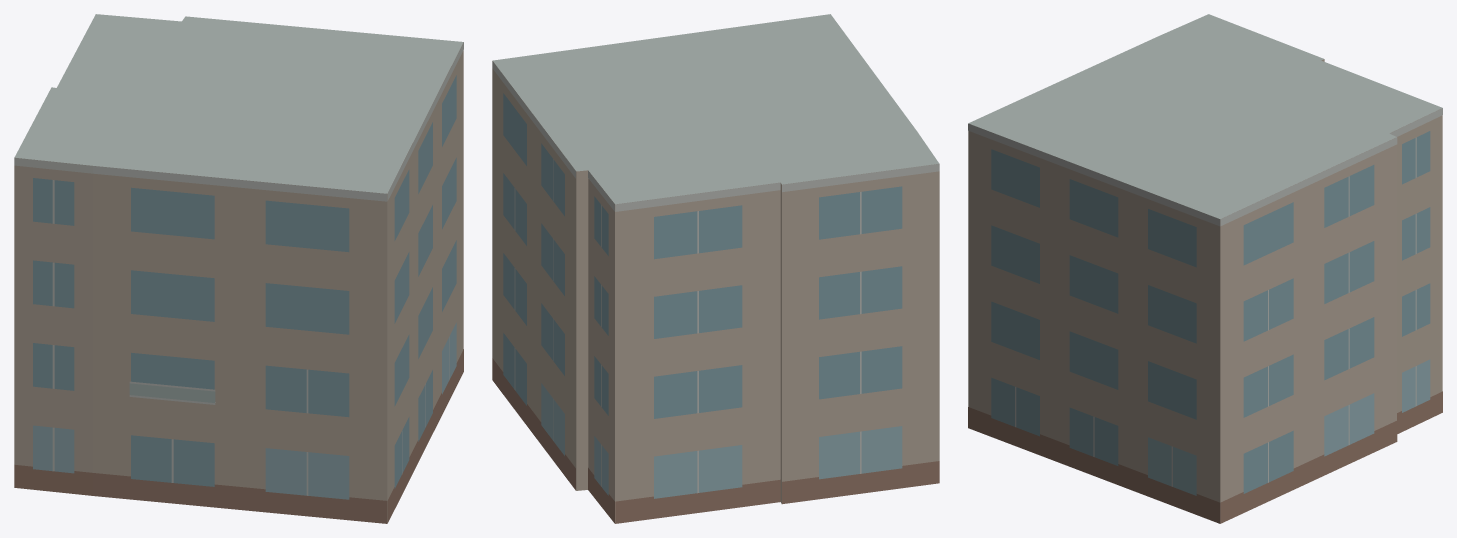
File: survey-upis-32826066.glb
3 views of the same model, side by side, from view 1: azimuth 30°, elevation 25°; view 2: azimuth 150°, elevation 25°; view 3: azimuth 270°, elevation 25° (orthographic). The views are drawn at different scales.
Visible parts, largest first — view 1: survey-upis-32826066.tmp; view 2: survey-upis-32826066.tmp; view 3: survey-upis-32826066.tmp.
Boxes of the visible parts, x1,y1,x2,y2 form: survey-upis-32826066.tmp: (14, 14, 463, 523); survey-upis-32826066.tmp: (492, 14, 939, 523); survey-upis-32826066.tmp: (968, 14, 1442, 523).
Size of the model in its own units: 14.74 by 10.2 by 14.41.
